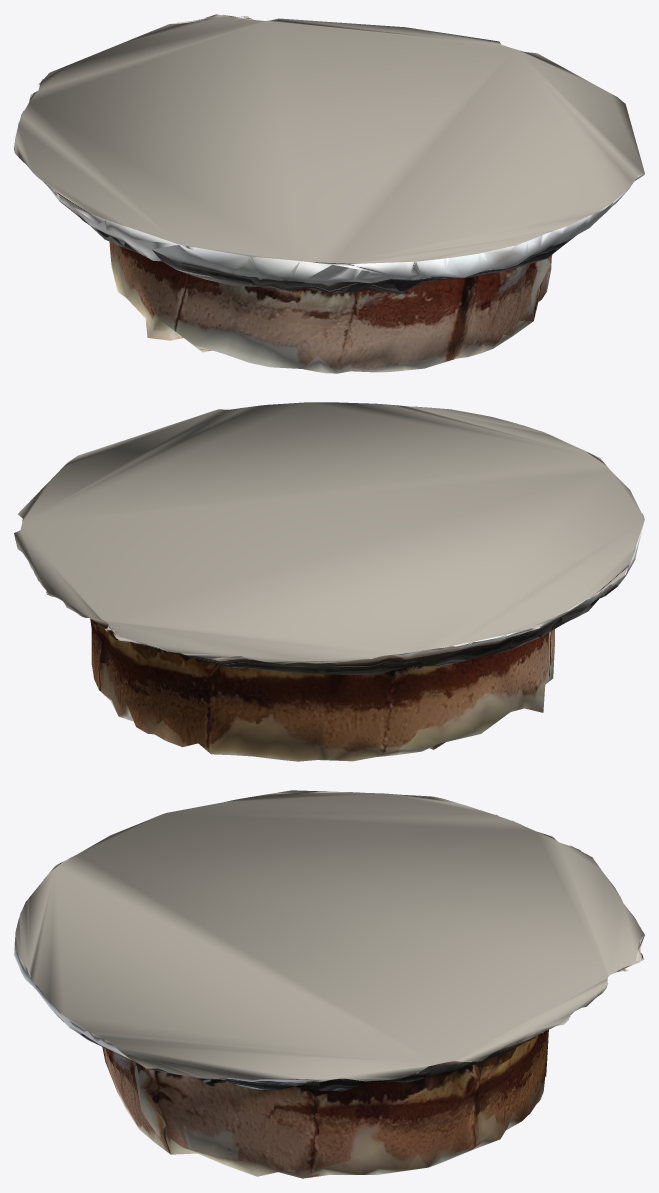
The model's file is cake_1866.obj.
3 views of the same model, one above another, from view 1: azimuth 30°, elevation 25°; view 2: azimuth 150°, elevation 25°; view 3: azimuth 270°, elevation 25° (orthographic). The views are drawn at different scales.
Size of the model in its own units: 0.1769 by 0.0547 by 0.1769.
Materials: 1 (1 with a texture image).
